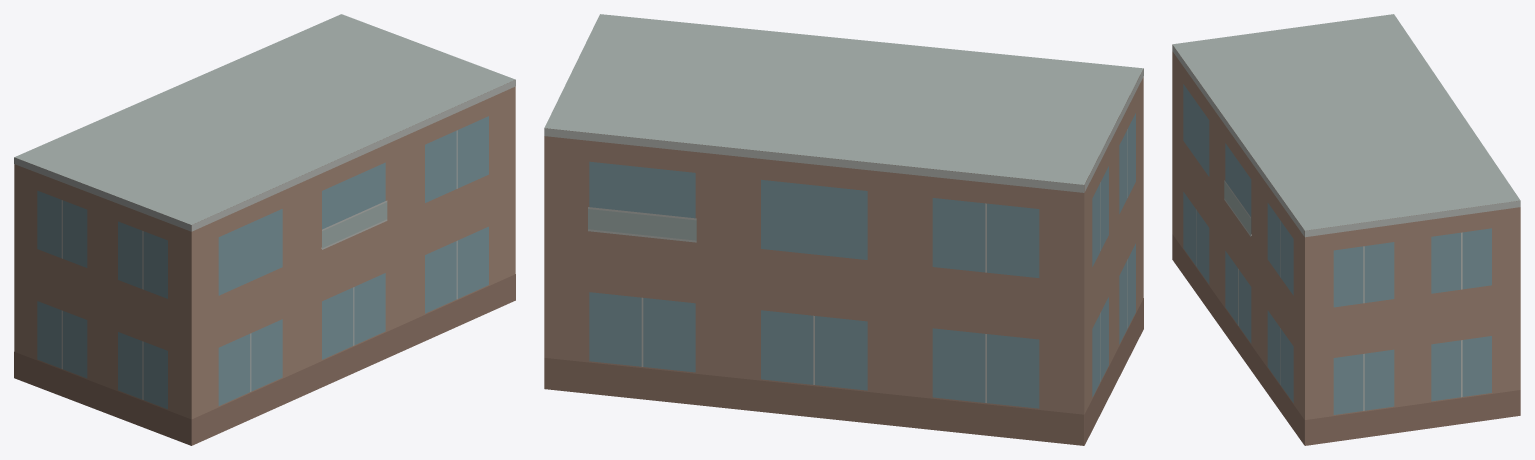
The model's file is survey-upis-32841852.glb.
3 views of the same model, side by side, from view 1: azimuth 30°, elevation 25°; view 2: azimuth 150°, elevation 25°; view 3: azimuth 270°, elevation 25° (orthographic). The views are drawn at different scales.
Parts seen in each view (by area): view 1: survey-upis-32841852.tmp; view 2: survey-upis-32841852.tmp; view 3: survey-upis-32841852.tmp.
Part boxes in pixels (x1,y1,x2,y2): survey-upis-32841852.tmp: (14,14,515,445); survey-upis-32841852.tmp: (544,14,1143,445); survey-upis-32841852.tmp: (1172,14,1520,445).
Bounding box in the file's own units: 17.18 × 7.95 × 11.67.
